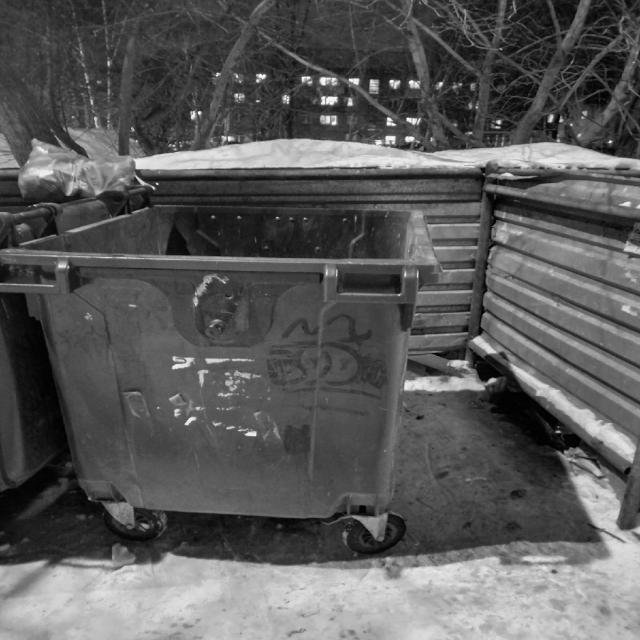Trashcan: (17, 178, 474, 578)
